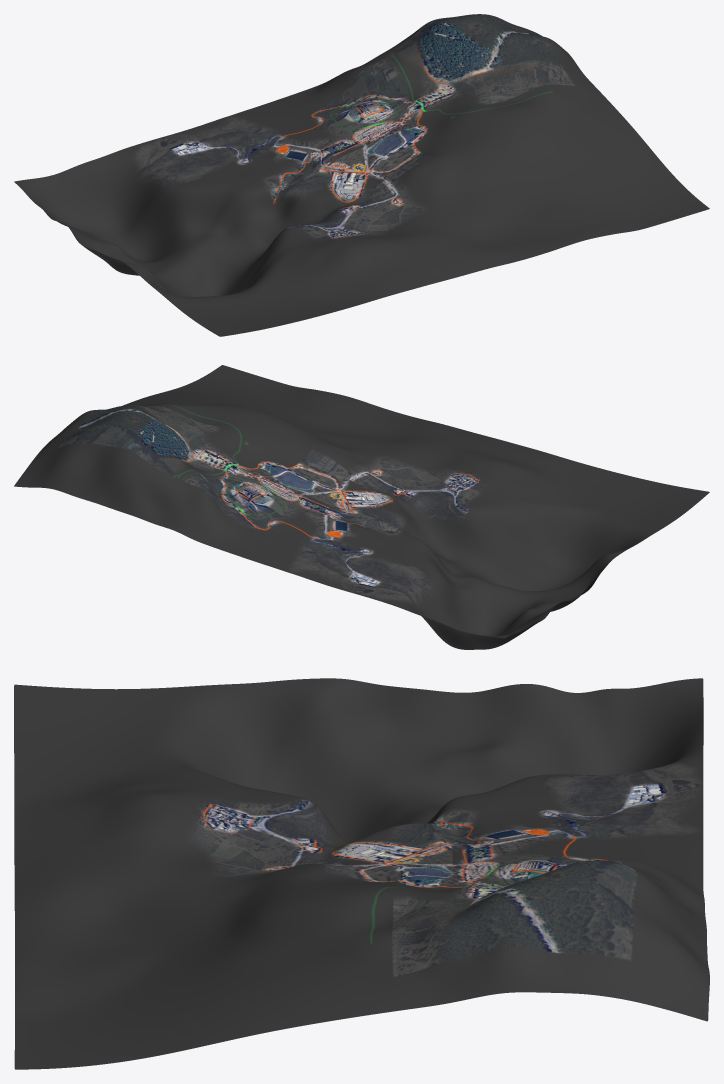
Rendered from EntornoBase.fbx.
The picture shows the model from 3 angles, top to bottom: view 1: azimuth 30°, elevation 25°; view 2: azimuth 150°, elevation 25°; view 3: azimuth 270°, elevation 25°; orthographic projection. The views are drawn at different scales.
Parts seen in each view (by area): view 1: Plane; view 2: Plane; view 3: Plane.
Part boxes in pixels (x1,y1,x2,y2): Plane: (14, 14, 709, 336); Plane: (14, 365, 709, 649); Plane: (14, 678, 709, 1069).
Bounding box in the file's own units: 50167 × 14200 × 36461.
